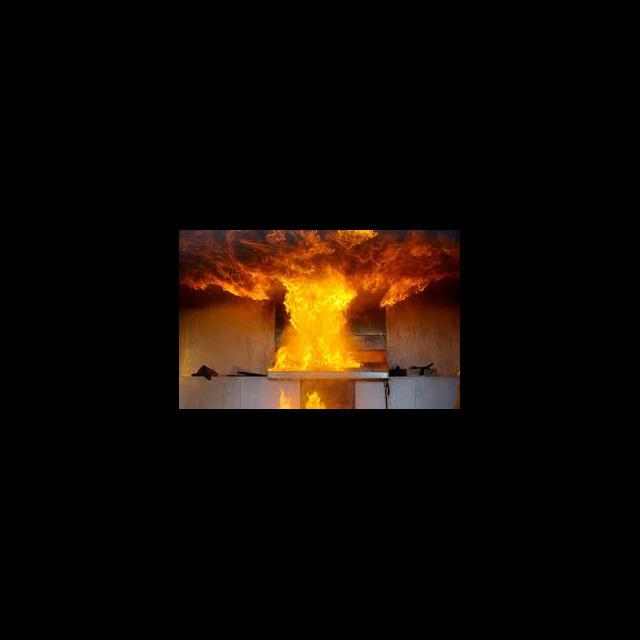Fire: (180, 230, 460, 308), (266, 274, 364, 376), (304, 388, 332, 408), (276, 389, 294, 408)
